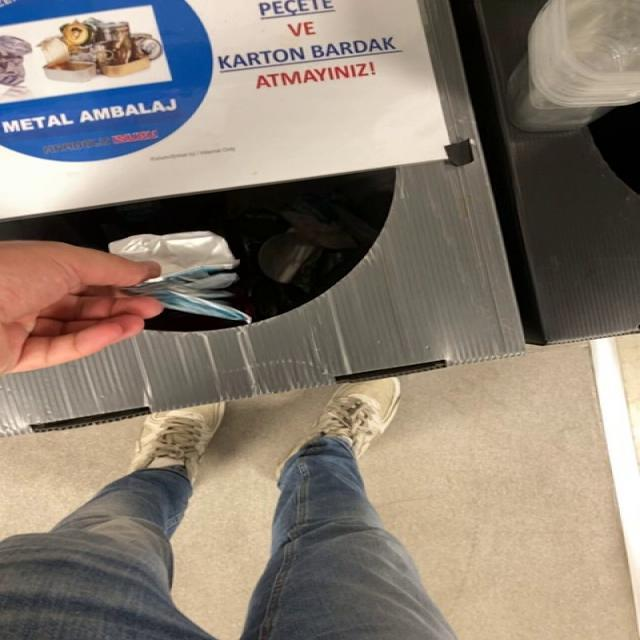Bin: (0, 0, 524, 436)
Metal: (108, 231, 251, 324), (145, 252, 153, 256)
